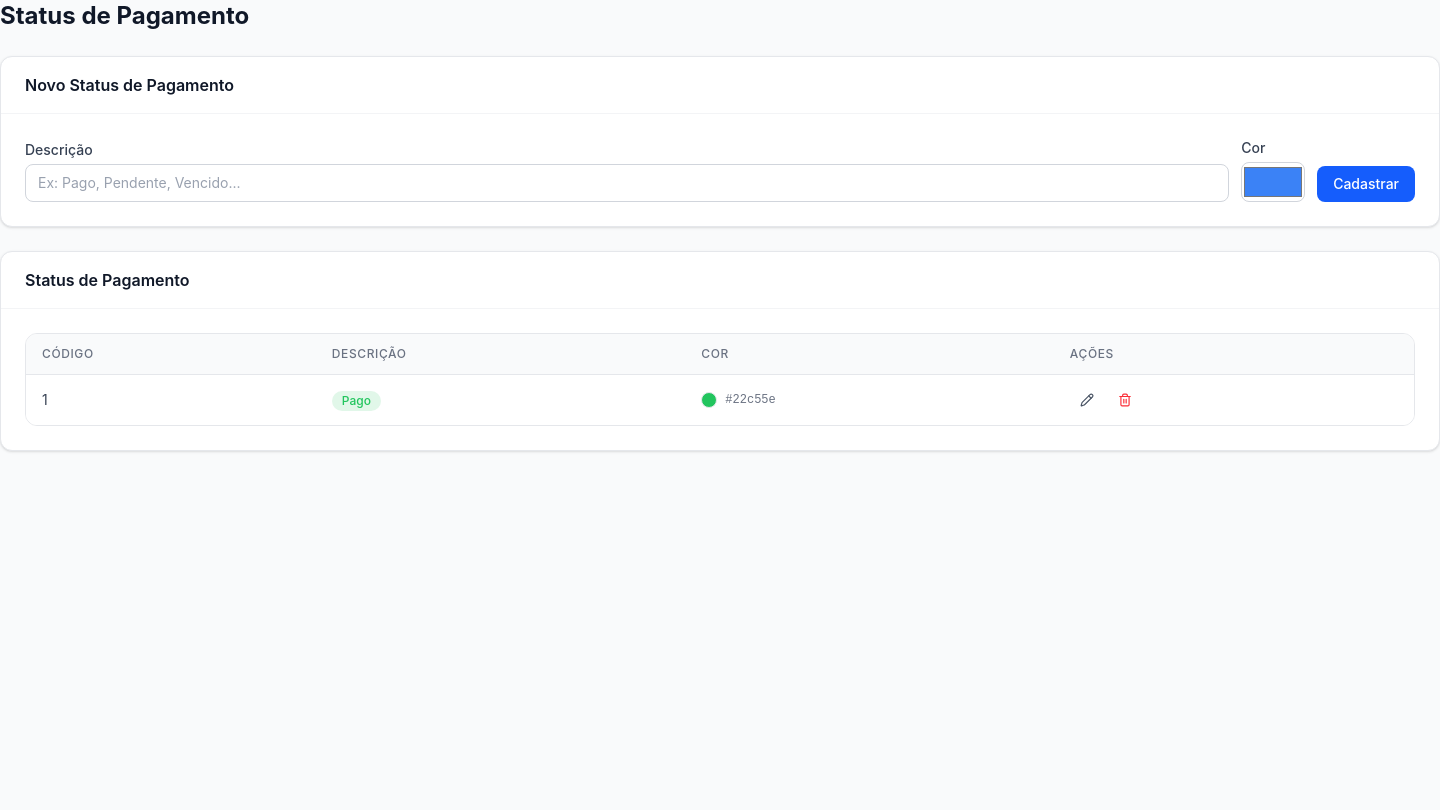
Scenario: StatusPagamentoPage › should close the confirm modal when cancelling delete
Click the button titled "Excluir".
click(1125, 400)  # box [1108,387,1142,413]
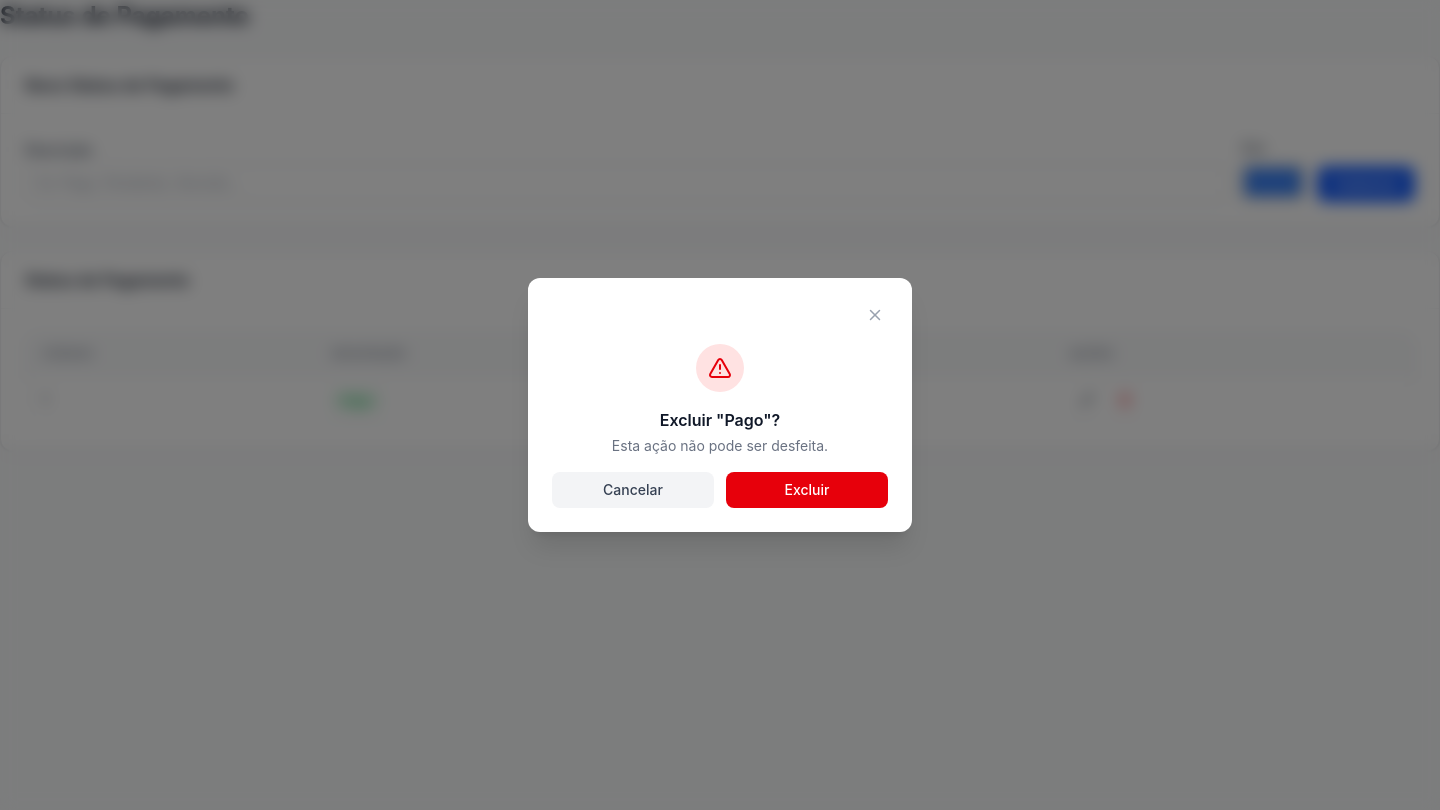
Now the text "Esta ação não pode ser desfeita." is shown, box [612,436,828,456]
Click the button "Cancelar".
click(633, 490)  # box [552,472,714,508]
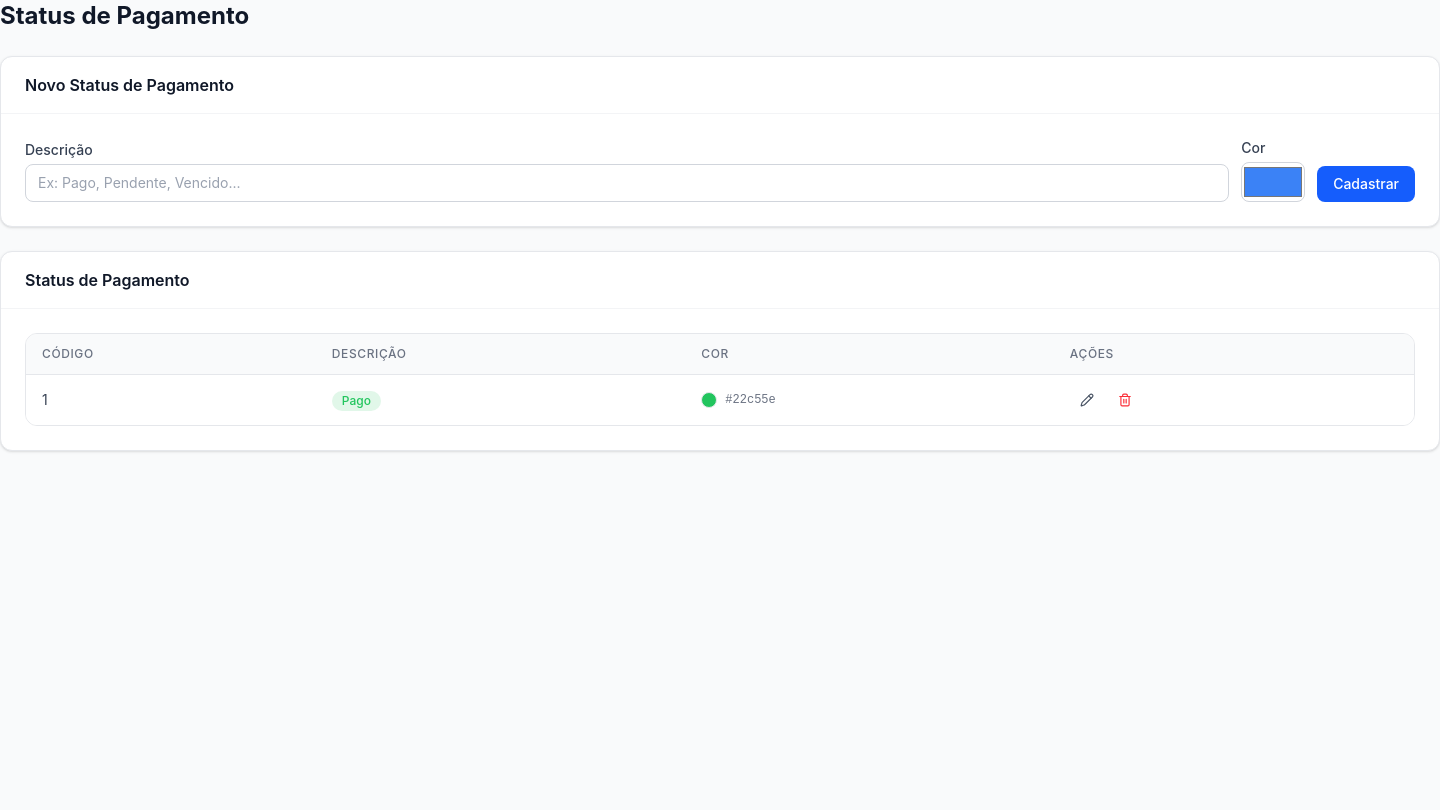
Now the text "Esta ação não pode ser desfeita." is gone
